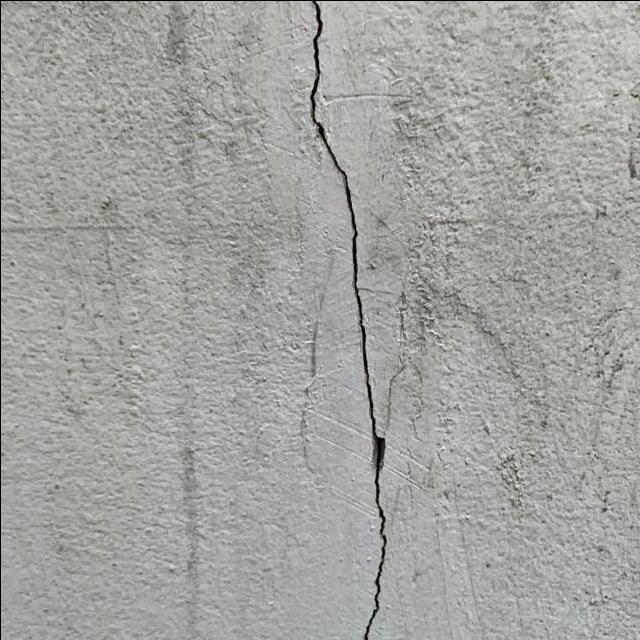SurfaceCrack: (263, 0, 438, 640)
